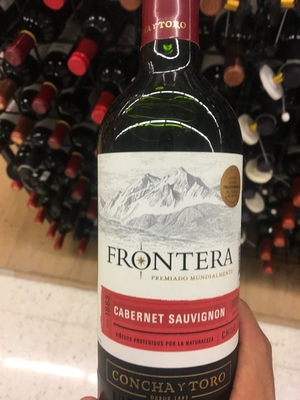frontera cabernet sauvignon: (93, 8, 264, 400)
